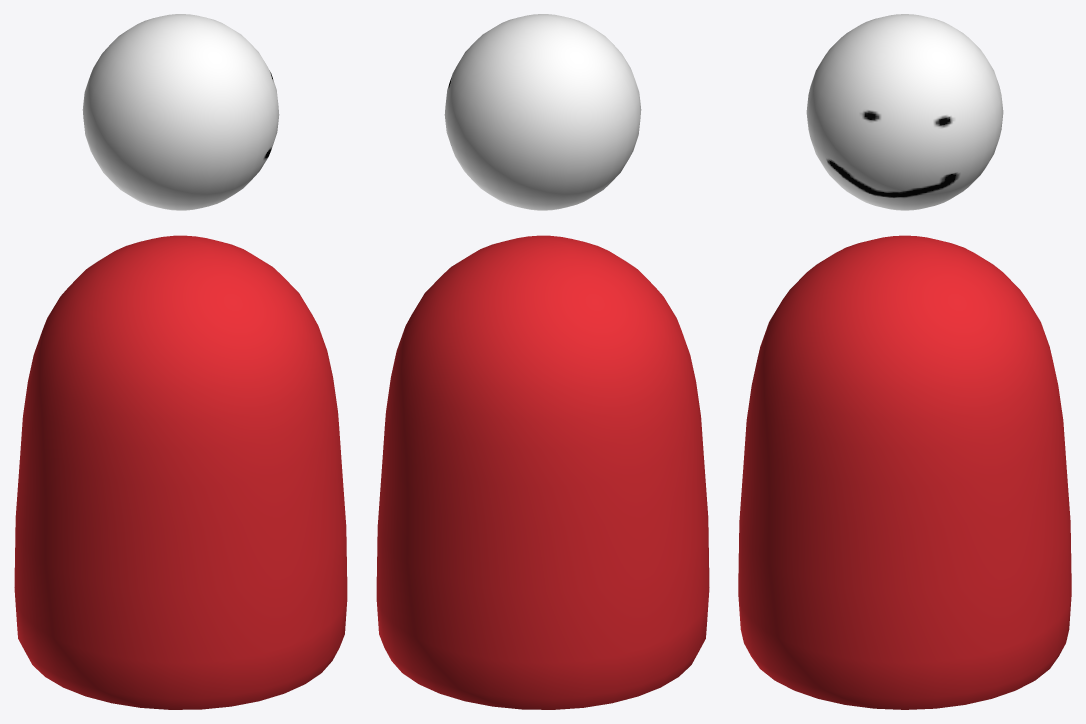
File: student.fbx
3 views of the same model, side by side, from view 1: azimuth 30°, elevation 25°; view 2: azimuth 150°, elevation 25°; view 3: azimuth 270°, elevation 25° (orthographic).
Parts seen in each view (by area): view 1: Sphere.002; view 2: Sphere.002; view 3: Sphere.002.
Part boxes in pixels (bbox=[...]): Sphere.002: bbox=[14, 14, 347, 709]; Sphere.002: bbox=[376, 14, 709, 709]; Sphere.002: bbox=[738, 14, 1071, 709].
Size of the model in its own units: 83.4 by 173 by 83.4.
Materials: 2 (1 with a texture image).
